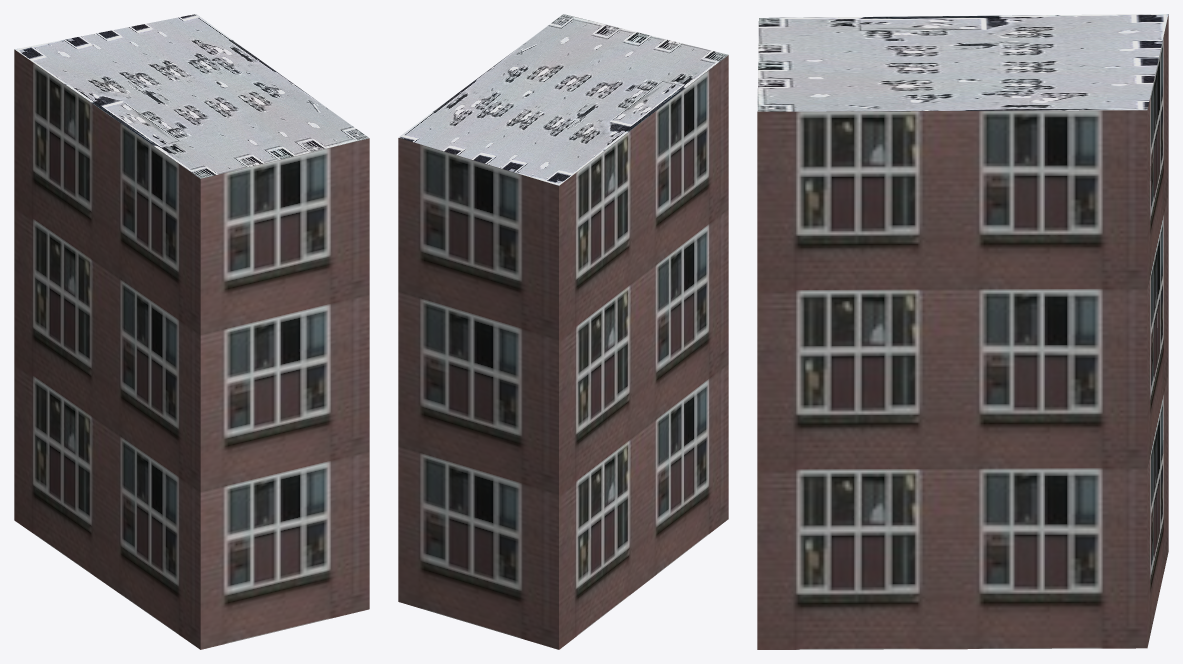
File: ResTex__2641.fbx
3 renders of one model, left to right at view 1: azimuth 30°, elevation 25°; view 2: azimuth 150°, elevation 25°; view 3: azimuth 270°, elevation 25°, orthographic. The views are drawn at different scales.
Visible parts, largest first — view 1: CityEngineMaterial_12_m, CityEngineMaterial_4_m; view 2: CityEngineMaterial_12_m, CityEngineMaterial_4_m; view 3: CityEngineMaterial_12_m, CityEngineMaterial_4_m.
Part boxes in pixels (x1,y1,x2,y2): CityEngineMaterial_12_m: [14, 49, 369, 649]; CityEngineMaterial_4_m: [15, 14, 368, 178]; CityEngineMaterial_12_m: [398, 55, 728, 649]; CityEngineMaterial_4_m: [398, 14, 728, 185]; CityEngineMaterial_12_m: [757, 14, 1168, 649]; CityEngineMaterial_4_m: [757, 14, 1168, 111].
Bounding box in the file's own units: 3.51 × 9 × 6.23.
2 materials, 2 textured.
